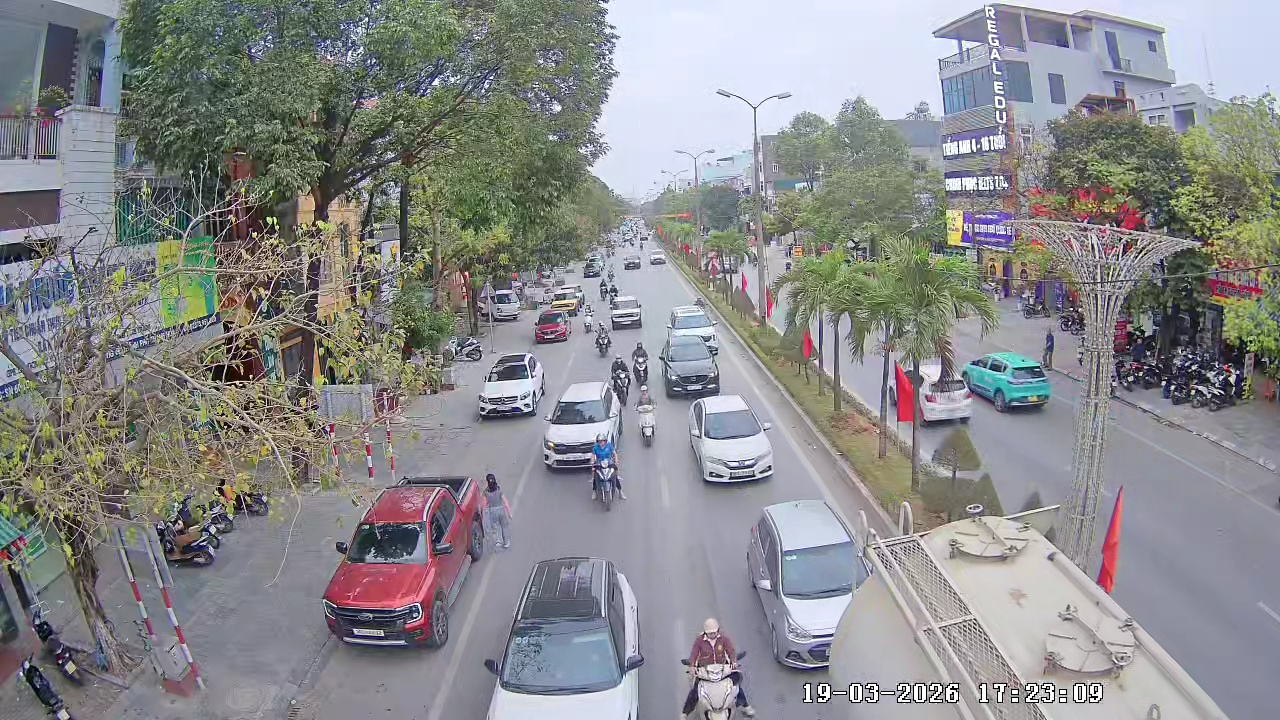bike: (586, 430, 627, 513)
car: (322, 473, 486, 650), (481, 555, 648, 719), (744, 499, 865, 672), (688, 394, 775, 485), (541, 380, 625, 472), (963, 352, 1051, 413), (476, 353, 546, 419), (662, 332, 721, 399), (917, 377, 973, 426), (666, 312, 720, 357), (532, 312, 570, 344), (610, 294, 644, 328)
motorbike: (677, 616, 757, 719), (586, 429, 627, 513), (635, 391, 659, 449), (610, 357, 632, 404), (632, 340, 651, 384), (593, 321, 611, 359)
